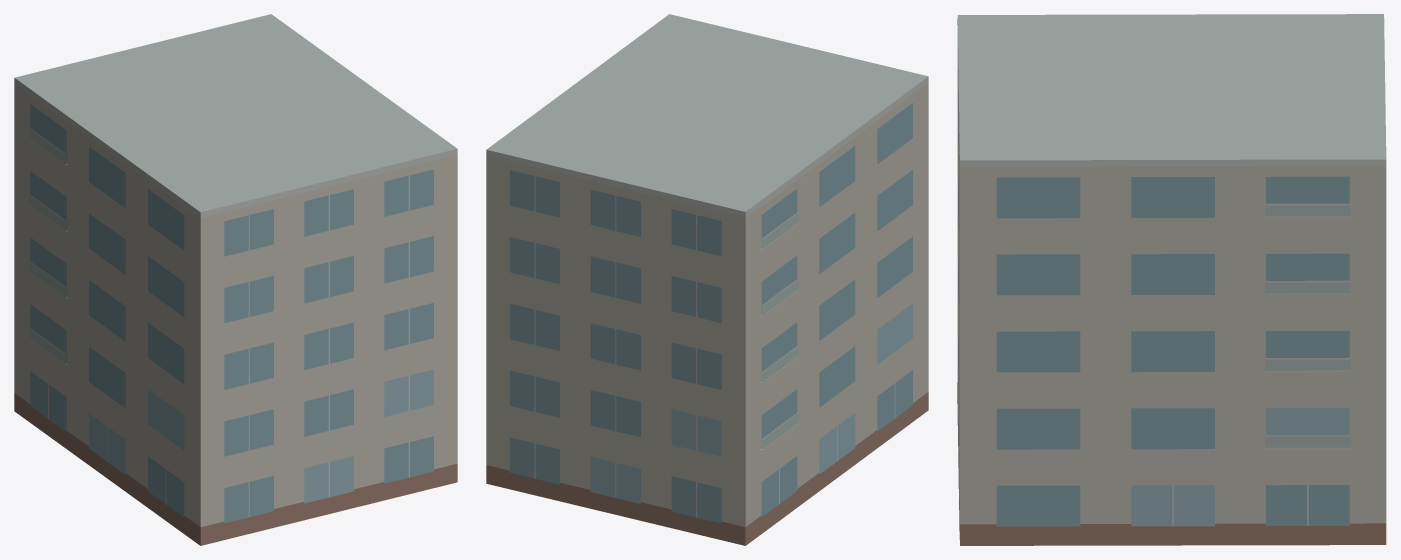
File: survey-upis-32904827.glb
3 renders of one model, left to right at view 1: azimuth 30°, elevation 25°; view 2: azimuth 150°, elevation 25°; view 3: azimuth 270°, elevation 25°, orthographic. The views are drawn at different scales.
Parts seen in each view (by area): view 1: survey-upis-32904827.tmp; view 2: survey-upis-32904827.tmp; view 3: survey-upis-32904827.tmp.
Boxes of the visible parts, box(x1,y1,x2,y2) form: survey-upis-32904827.tmp: box(14, 14, 457, 545); survey-upis-32904827.tmp: box(486, 14, 928, 545); survey-upis-32904827.tmp: box(957, 14, 1386, 545).
Bounding box in the file's own units: 10.87 × 13.3 × 13.42.
